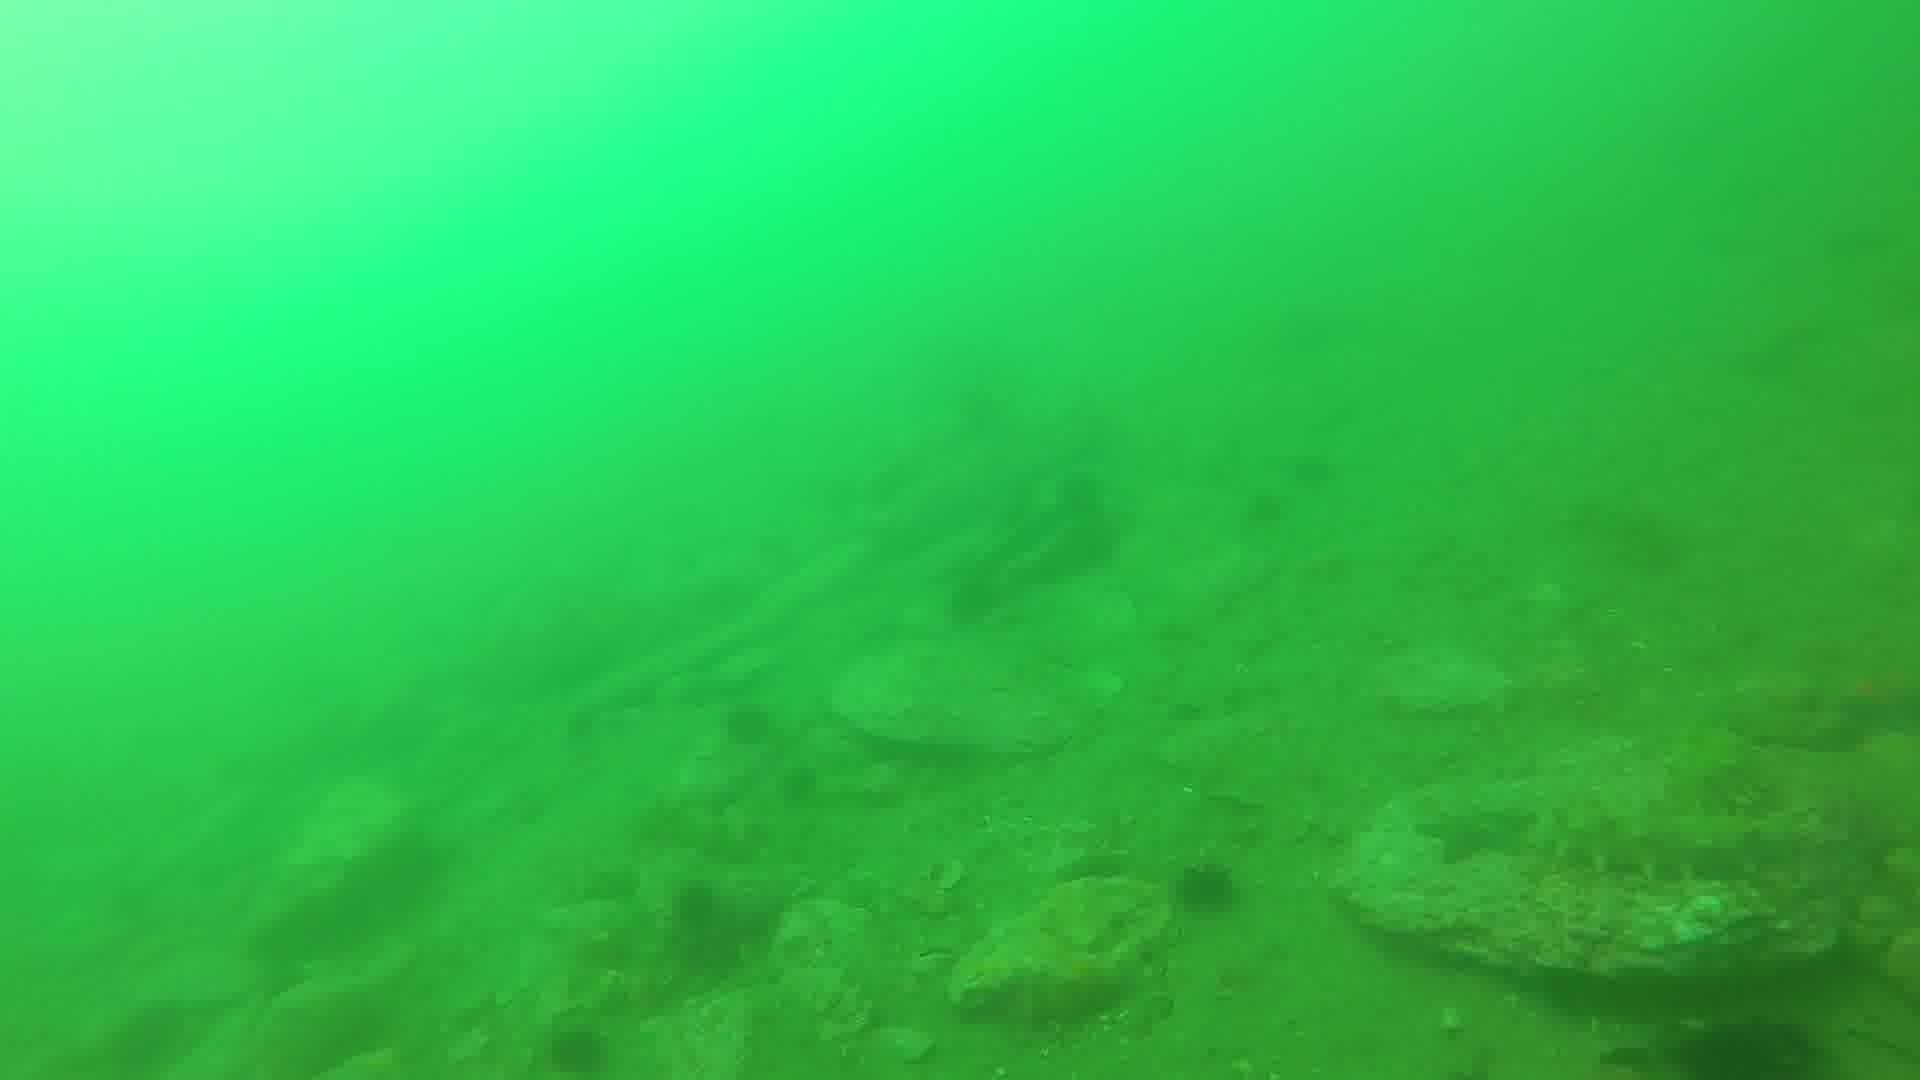echinus: (1168, 856, 1244, 920), (539, 1015, 616, 1077), (663, 876, 731, 942), (939, 567, 1007, 632), (716, 698, 779, 752), (775, 761, 825, 812)
holothurian: (1528, 799, 1809, 889)
starfish: (1411, 796, 1538, 869)
